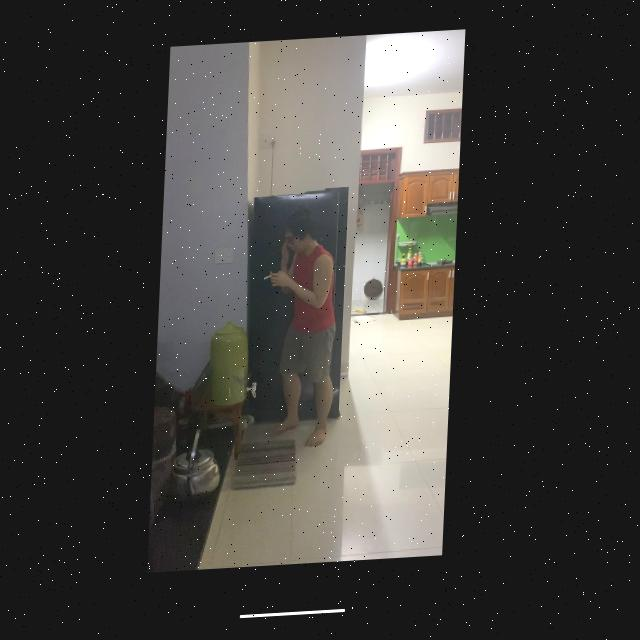cigarette: (266, 279, 274, 283)
